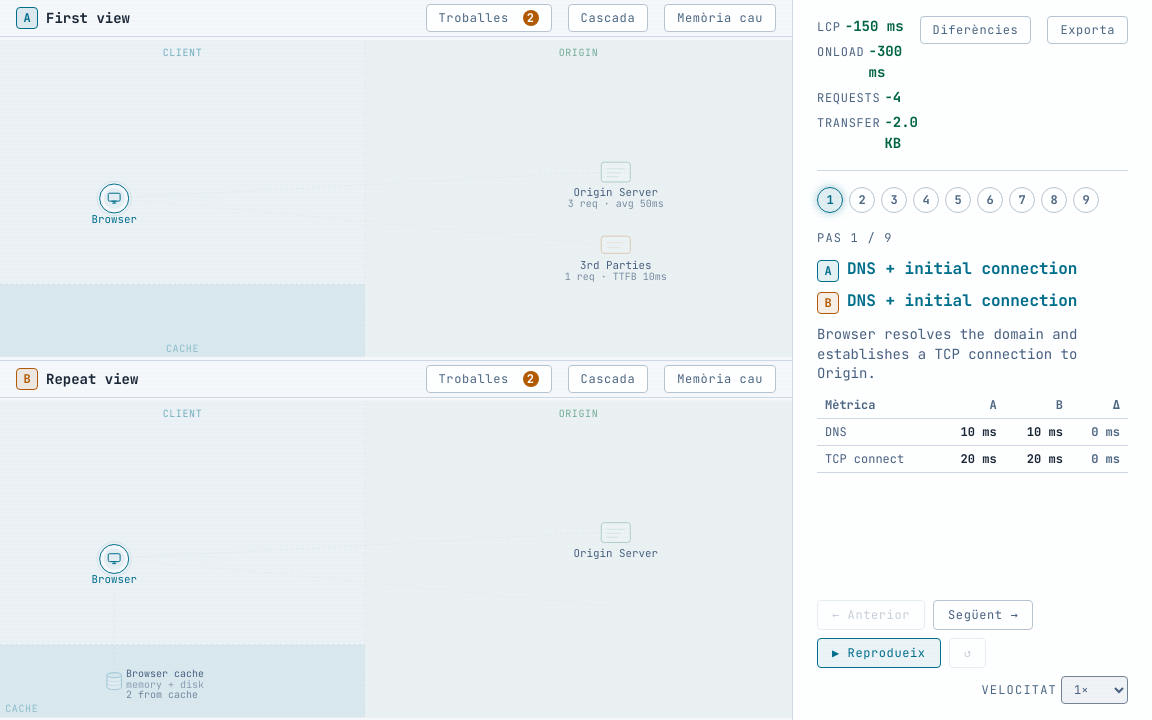
CompareView in Catalan › names the comparison, its deltas and its step controls
The width and height of the screenshot is (1152, 720).
Expected: the button "← Anterior" is disabled, 817,600 -> 925,630
Click the button with aria-label "Mostra o amaga les diferències": (976, 30) 920,16 -> 1031,44
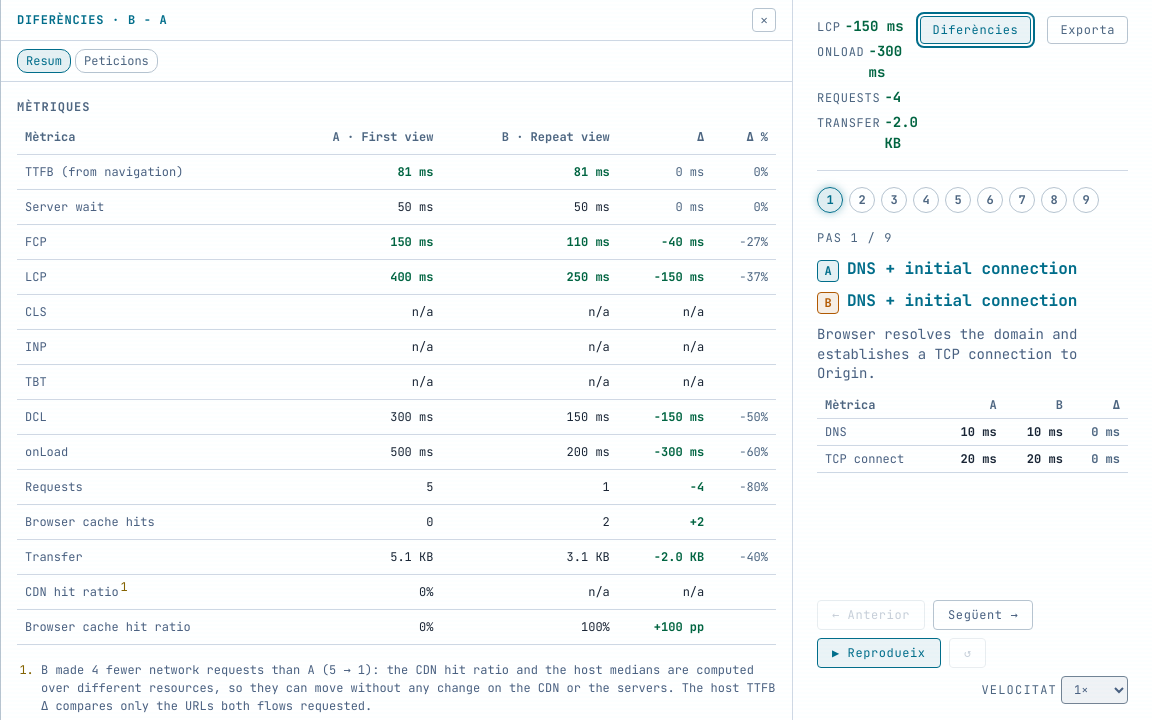
Now the table named "Diferències de mètriques" is shown, box 17,120 -> 776,645
Now the button named "Tanca les diferències" is shown, box 752,8 -> 776,32
